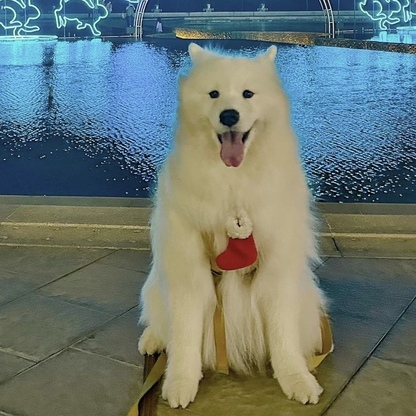samoyed: (132, 35, 339, 410)
